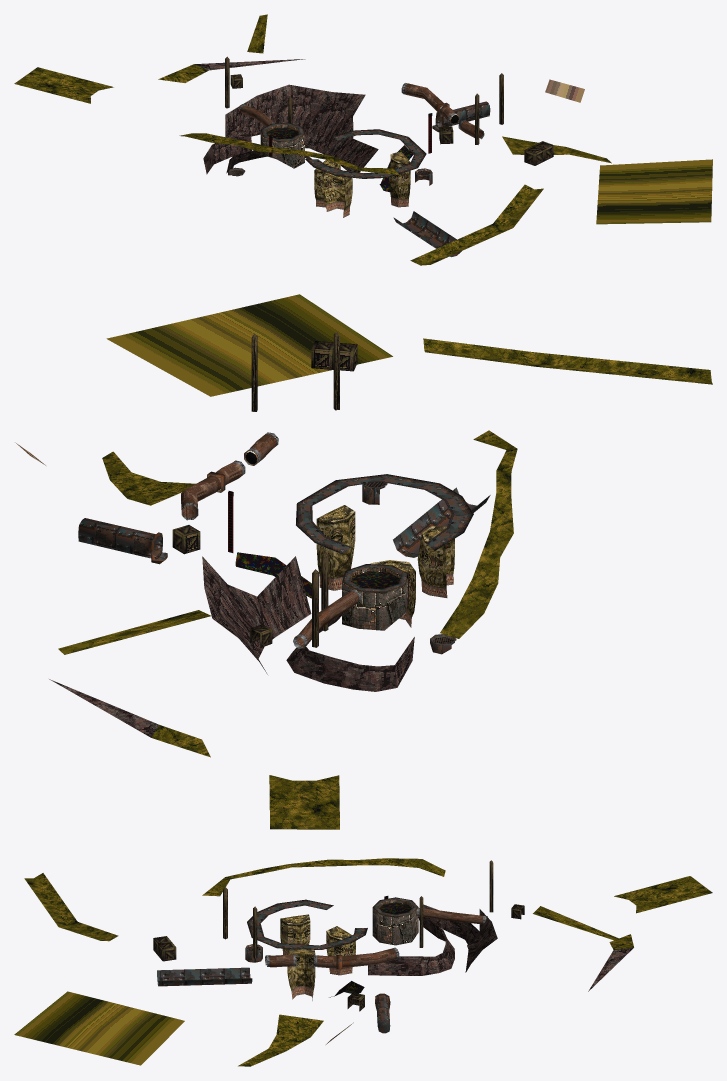
The model's file is BananaLandfill.obj.
3 renders of one model, top to bottom at view 1: azimuth 30°, elevation 25°; view 2: azimuth 150°, elevation 25°; view 3: azimuth 270°, elevation 25°, orthographic. The views are drawn at different scales.
Visible parts, largest first — view 1: #Room0#_Slide#Steep_wall#SFX_2#MirrorY, #Room1#_Plane.009_stonesfloor_stones_edge_wall#SFX_0, #Room0#_Exit#Exit04_stonesfloor_stones_edge_wall#SFX_0, #Room0#_Exit#Exit06_stonesfloor_stones_edge_wall#SFX_0, #Room0#_Room0#Camera3_Metal#SFX_2, #Room0#_Room0#Camera1_stonesfloor_stones_edge_wall#SFX_0, #Room0#_Exit#Exit05_Metal2#SFX_2, #Room0#_Circle.002_TrashBin#SFX_2, #Room0#_Pipe#Camera3_Rusty_Metal_Plate2#SFX_2, #Room0#_Pillar#Camera1.001_GoronHead2.#ClampX, #Room0#_Pillar#Camera1.003_GoronHead2.#ClampX, #Room0#_Exit#Exit00_stonesfloor_stones_edge_wall#SFX_0 (+6 smaller); view 2: #Room1#_Plane.009_stonesfloor_stones_edge_wall#SFX_0, #Room0#_Slide#Steep_wall#SFX_2#MirrorY, #Room0#_Room0#Camera1_stonesfloor_stones_edge_wall#SFX_0, #Room0#_Exit#Exit04_stonesfloor_stones_edge_wall#SFX_0, #Room0#_Room0#Camera3_Metal#SFX_2, #Room0#_Exit#Exit06_stonesfloor_stones_edge_wall#SFX_0, #Room0#_Circle.002_TrashBin#SFX_2, #Room0#_Plane.007_Metal2#SFX_2, #Room0#_Pillar#Camera1.003_GoronHead2.#ClampX, #Room0#_Exit#Exit00_stonesfloor_stones_edge_wall#SFX_0, #Room0#_Pipe#Camera3_Rusty_Metal_Plate2#SFX_2, #Room0#_Pillar#Camera1.001_GoronHead2.#ClampX (+7 smaller); view 3: #Room1#_Plane.009_stonesfloor_stones_edge_wall#SFX_0, #Room0#_Slide#Steep_wall#SFX_2#MirrorY, #Room0#_Exit#Exit06_stonesfloor_stones_edge_wall#SFX_0, #Room0#_Room0#Camera1_stonesfloor_stones_edge_wall#SFX_0, #Room0#_Exit#Exit04_stonesfloor_stones_edge_wall#SFX_0, #Room0#_Exit#Exit05_Metal2#SFX_2, #Room0#_Exit#Exit00_stonesfloor_stones_edge_wall#SFX_0, #Room0#_Room0#Camera3_Metal#SFX_2, #Room0#_Circle.002_TrashBin#SFX_2, #Room0#_Pipe#Camera3_Rusty_Metal_Plate2#SFX_2, #Room0#_Pillar#Camera1.003_GoronHead2.#ClampX, #Room0#_Pillar#Camera1.001_GoronHead2.#ClampX (+6 smaller).
Boxes of the visible parts, x1,y1,x2,y2 form: #Room0#_Slide#Steep_wall#SFX_2#MirrorY: (203, 84, 378, 174); #Room1#_Plane.009_stonesfloor_stones_edge_wall#SFX_0: (596, 159, 712, 224); #Room0#_Exit#Exit04_stonesfloor_stones_edge_wall#SFX_0: (410, 184, 543, 265); #Room0#_Exit#Exit06_stonesfloor_stones_edge_wall#SFX_0: (14, 67, 113, 103); #Room0#_Room0#Camera3_Metal#SFX_2: (305, 129, 426, 178); #Room0#_Room0#Camera1_stonesfloor_stones_edge_wall#SFX_0: (179, 133, 399, 175); #Room0#_Exit#Exit05_Metal2#SFX_2: (393, 211, 461, 257); #Room0#_Circle.002_TrashBin#SFX_2: (260, 125, 304, 168); #Room0#_Pipe#Camera3_Rusty_Metal_Plate2#SFX_2: (401, 83, 484, 139); #Room0#_Pillar#Camera1.001_GoronHead2.#ClampX: (322, 172, 352, 210); #Room0#_Pillar#Camera1.003_GoronHead2.#ClampX: (389, 151, 410, 199); #Room0#_Exit#Exit00_stonesfloor_stones_edge_wall#SFX_0: (502, 136, 611, 163); #Room1#_Plane.009_stonesfloor_stones_edge_wall#SFX_0: (106, 294, 392, 396); #Room0#_Slide#Steep_wall#SFX_2#MirrorY: (202, 556, 414, 691); #Room0#_Room0#Camera1_stonesfloor_stones_edge_wall#SFX_0: (440, 430, 517, 638); #Room0#_Exit#Exit04_stonesfloor_stones_edge_wall#SFX_0: (423, 338, 712, 384); #Room0#_Room0#Camera3_Metal#SFX_2: (296, 474, 473, 553); #Room0#_Exit#Exit06_stonesfloor_stones_edge_wall#SFX_0: (269, 775, 339, 829); #Room0#_Circle.002_TrashBin#SFX_2: (342, 567, 408, 630); #Room0#_Plane.007_Metal2#SFX_2: (78, 518, 167, 559); #Room0#_Pillar#Camera1.003_GoronHead2.#ClampX: (316, 505, 355, 578); #Room0#_Exit#Exit00_stonesfloor_stones_edge_wall#SFX_0: (102, 451, 195, 505); #Room0#_Pipe#Camera3_Rusty_Metal_Plate2#SFX_2: (181, 432, 278, 520); #Room0#_Pillar#Camera1.001_GoronHead2.#ClampX: (417, 526, 454, 588); #Room1#_Plane.009_stonesfloor_stones_edge_wall#SFX_0: (14, 991, 184, 1065); #Room0#_Slide#Steep_wall#SFX_2#MirrorY: (368, 904, 497, 975); #Room0#_Exit#Exit06_stonesfloor_stones_edge_wall#SFX_0: (614, 876, 712, 913); #Room0#_Room0#Camera1_stonesfloor_stones_edge_wall#SFX_0: (202, 858, 445, 896); #Room0#_Exit#Exit04_stonesfloor_stones_edge_wall#SFX_0: (24, 873, 118, 941); #Room0#_Exit#Exit05_Metal2#SFX_2: (157, 967, 252, 986); #Room0#_Exit#Exit00_stonesfloor_stones_edge_wall#SFX_0: (238, 1014, 323, 1066); #Room0#_Room0#Camera3_Metal#SFX_2: (247, 899, 367, 949); #Room0#_Circle.002_TrashBin#SFX_2: (372, 899, 418, 945); #Room0#_Pipe#Camera3_Rusty_Metal_Plate2#SFX_2: (265, 947, 399, 967); #Room0#_Pillar#Camera1.003_GoronHead2.#ClampX: (287, 949, 315, 991); #Room0#_Pillar#Camera1.001_GoronHead2.#ClampX: (280, 914, 310, 952).
Size of what is drawn, in the model's own units: 3810 by 1101 by 5363.
Materials: 16 (16 with a texture image).
